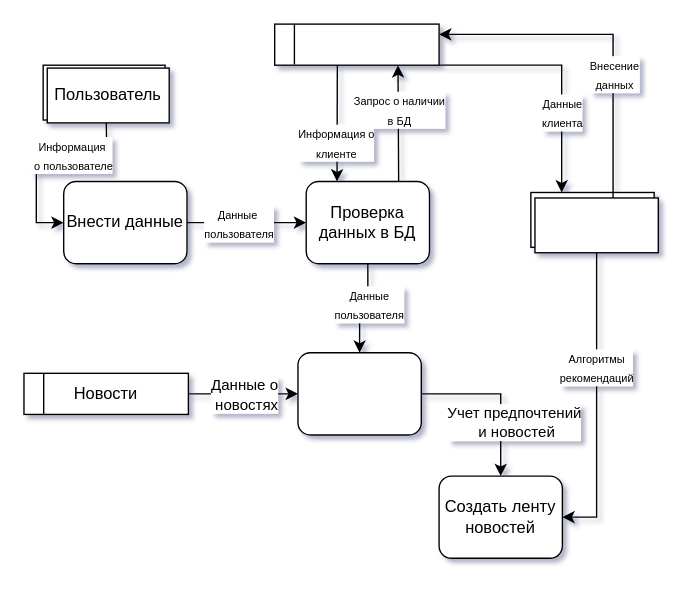
Some shapes in this 690 by 592 pixel diagram are drawn without their labels. Each missing label, with the box of its shape:
База данных: (273, 23, 439, 65)
Мобильное приложение: (534, 197, 658, 253)
расчет рекомендаций новостей: (297, 351, 421, 435)
